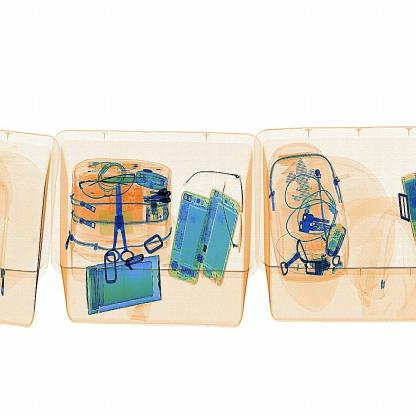gun: (104, 176, 144, 271)
